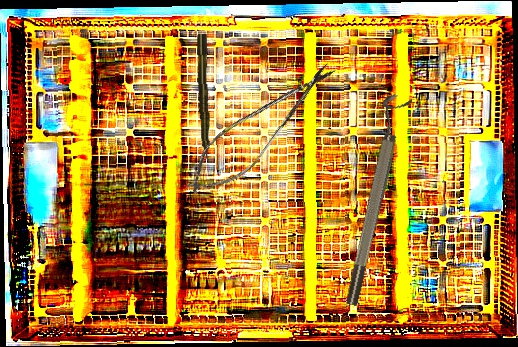Fixation Ring: (333, 91, 413, 308)
Handpiece: (195, 33, 213, 163)
Micro Scissor: (172, 46, 348, 211)
